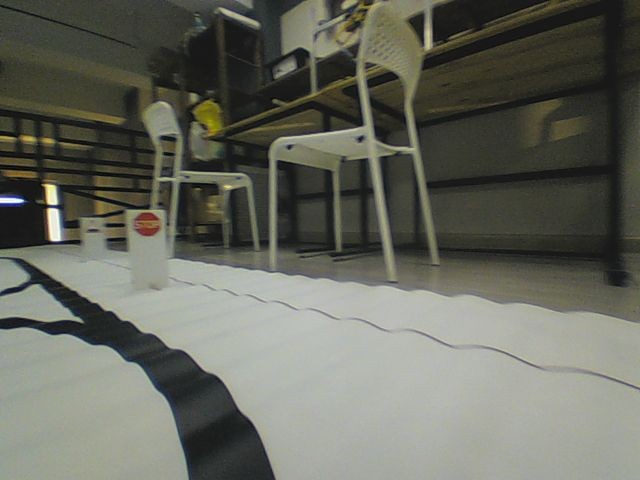Stop: (132, 210, 162, 238)
